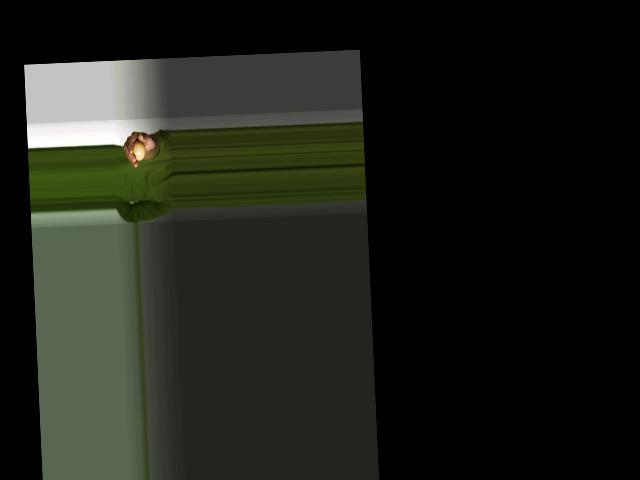egg: (132, 140, 145, 161)
